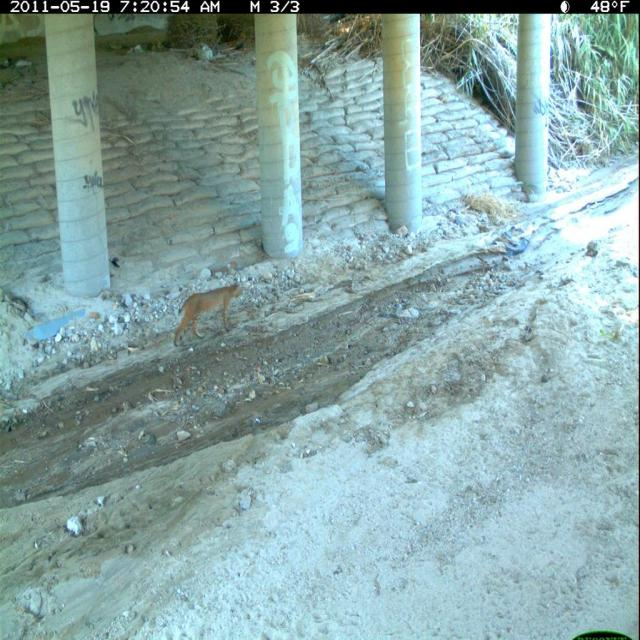bobcat: (171, 280, 248, 352)
